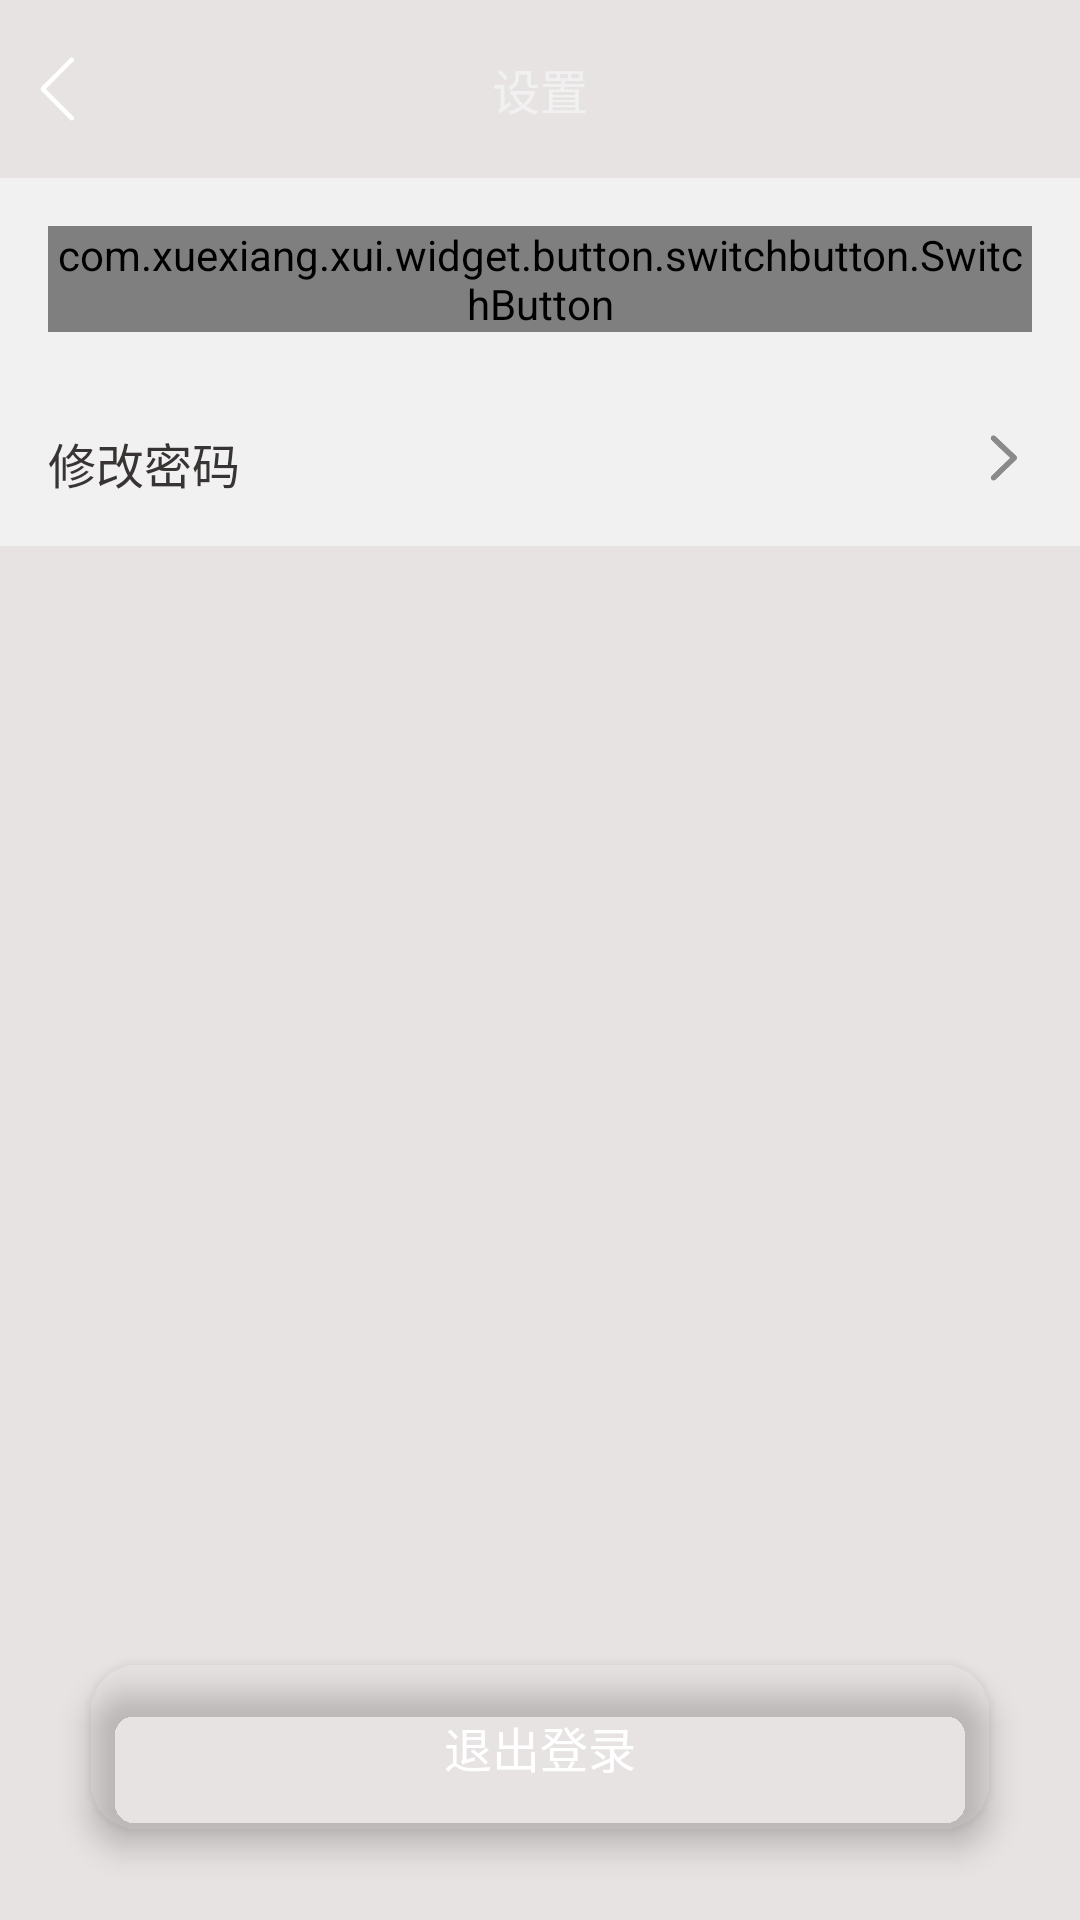

Named icons in this screenshot (1080 x 1920) and their bounding boxes, (x1, y1, x2, y2):
back: (41, 58, 74, 120)
right: (991, 435, 1017, 481)
